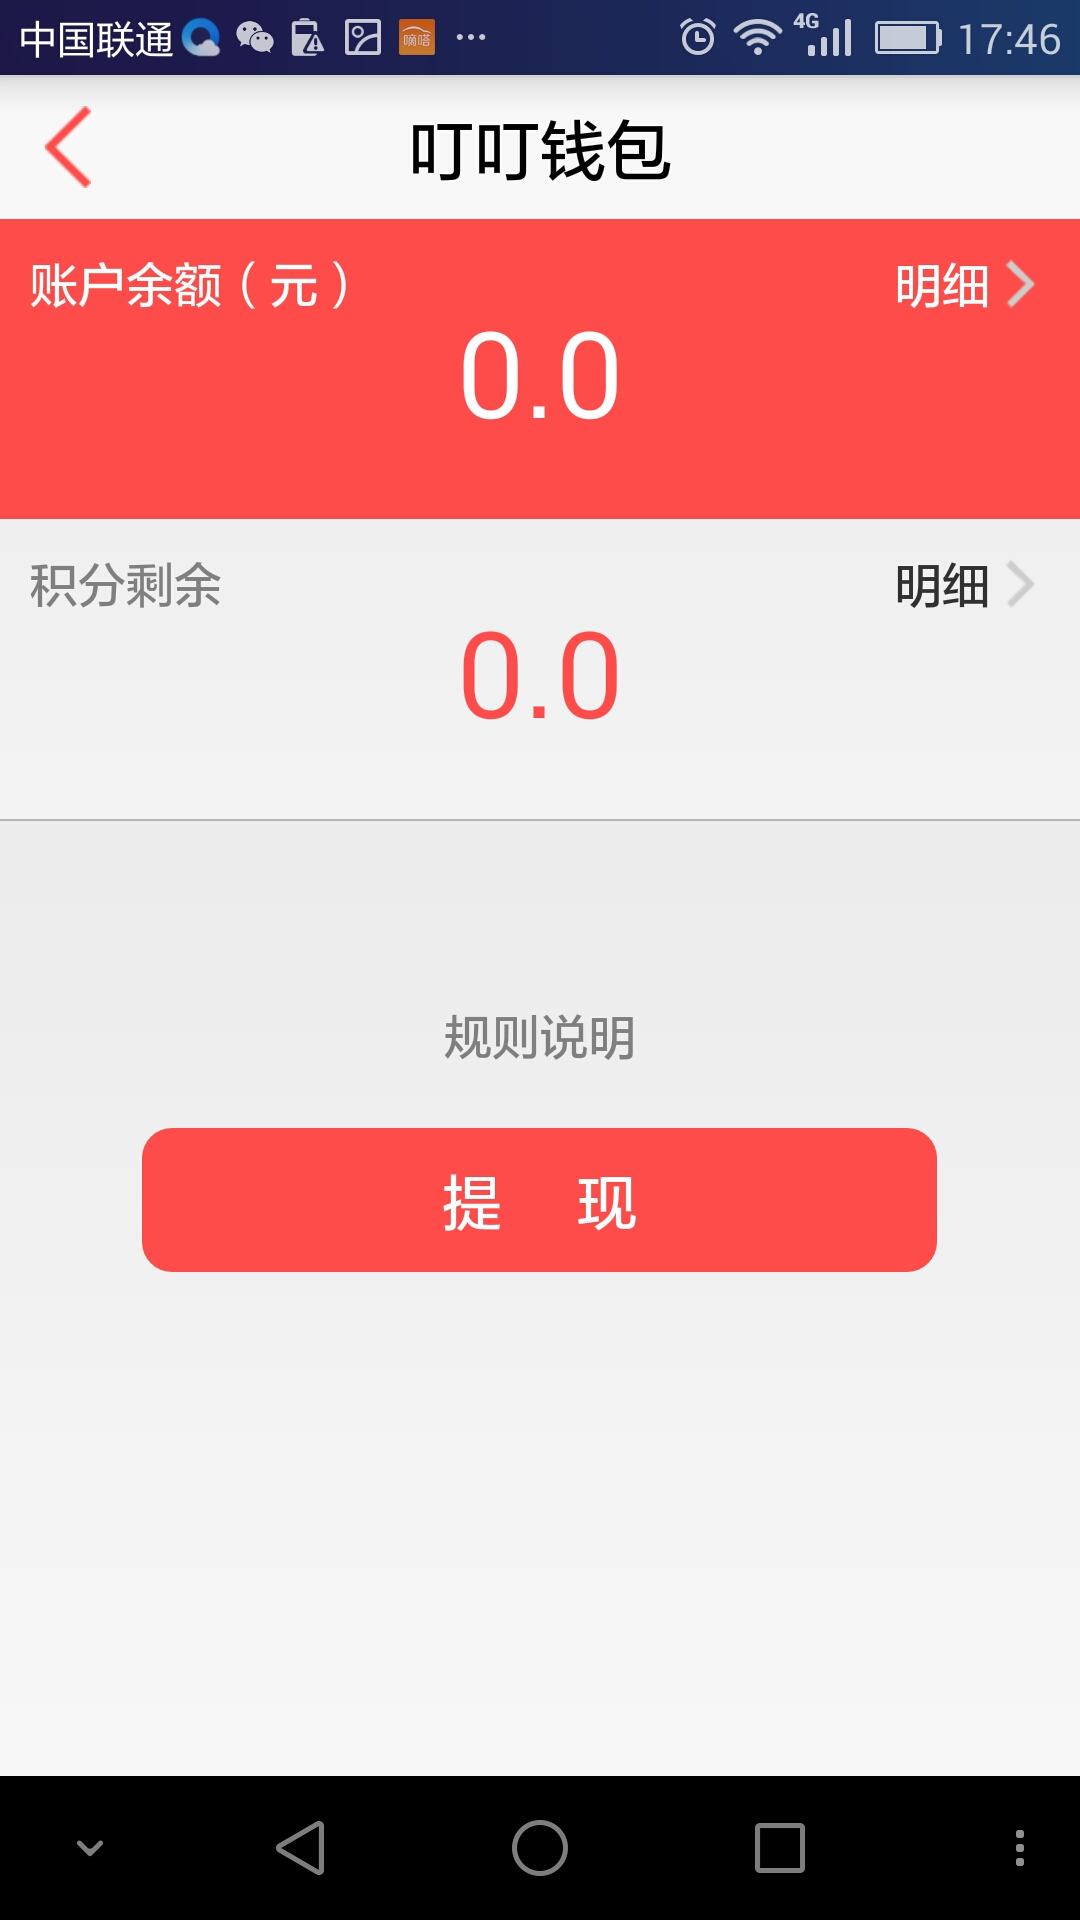imgbutton: (473, 1803, 596, 1896), (720, 1803, 839, 1896), (247, 1811, 349, 1888), (53, 1808, 146, 1890)
